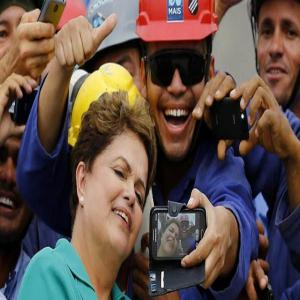none: (73, 99, 155, 261)
red: (137, 5, 215, 158)
